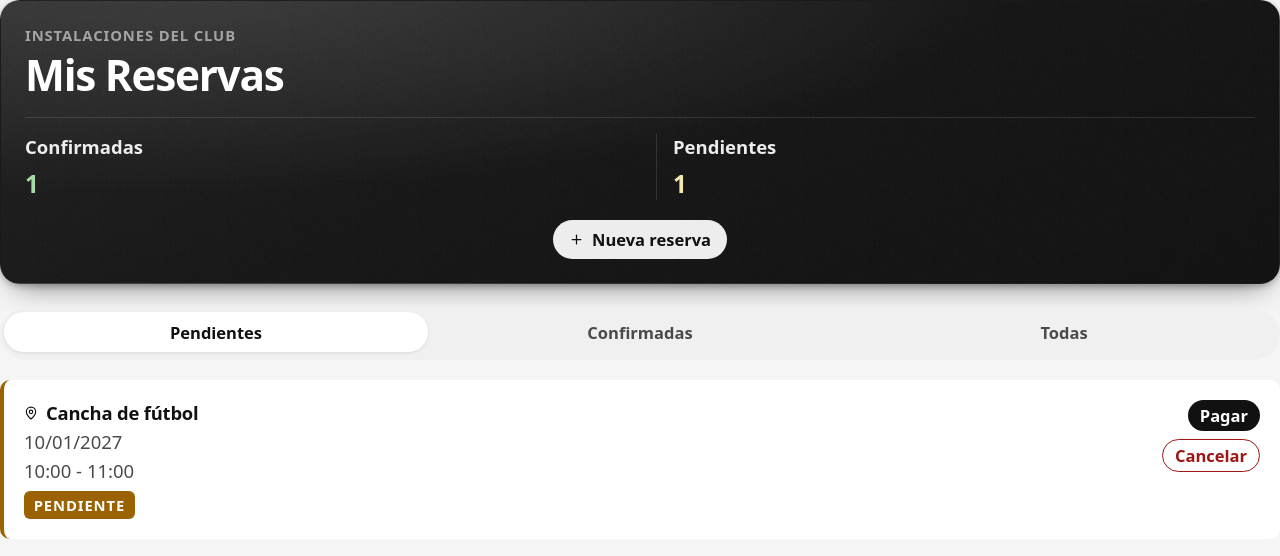
Scenario: ReservasPage › cambiar de filtro muestra solo las reservas de ese estado
Expected: the text "Cancha de fútbol" is shown, [24,400,198,425]
Click the radio button labelled "Confirmadas" at [640, 332], box [428,312,852,352]
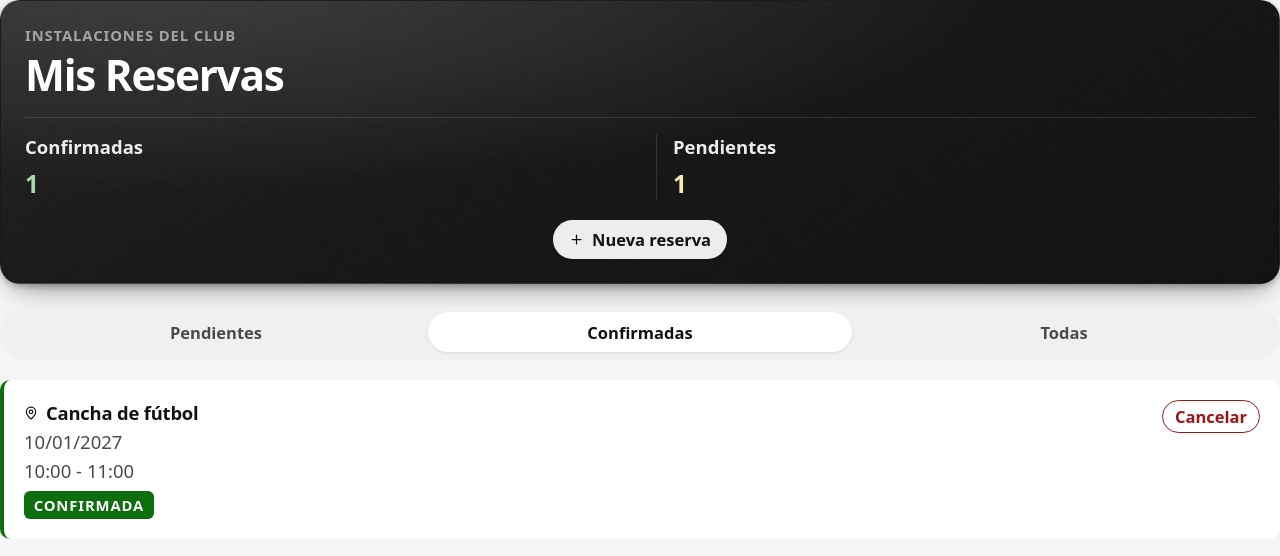
Expected: the text "Cancha de fútbol" is shown once, [24,400,198,425]
Expected: the text "Confirmada" is shown, [24,491,154,519]
